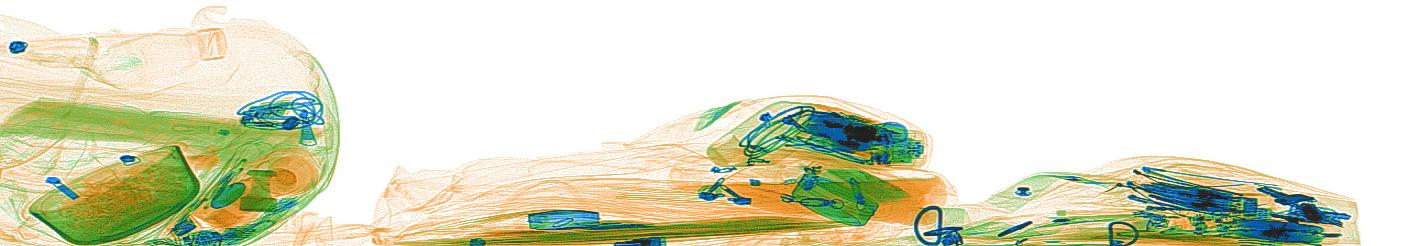seal: (260, 153, 318, 197), (238, 168, 278, 212)
